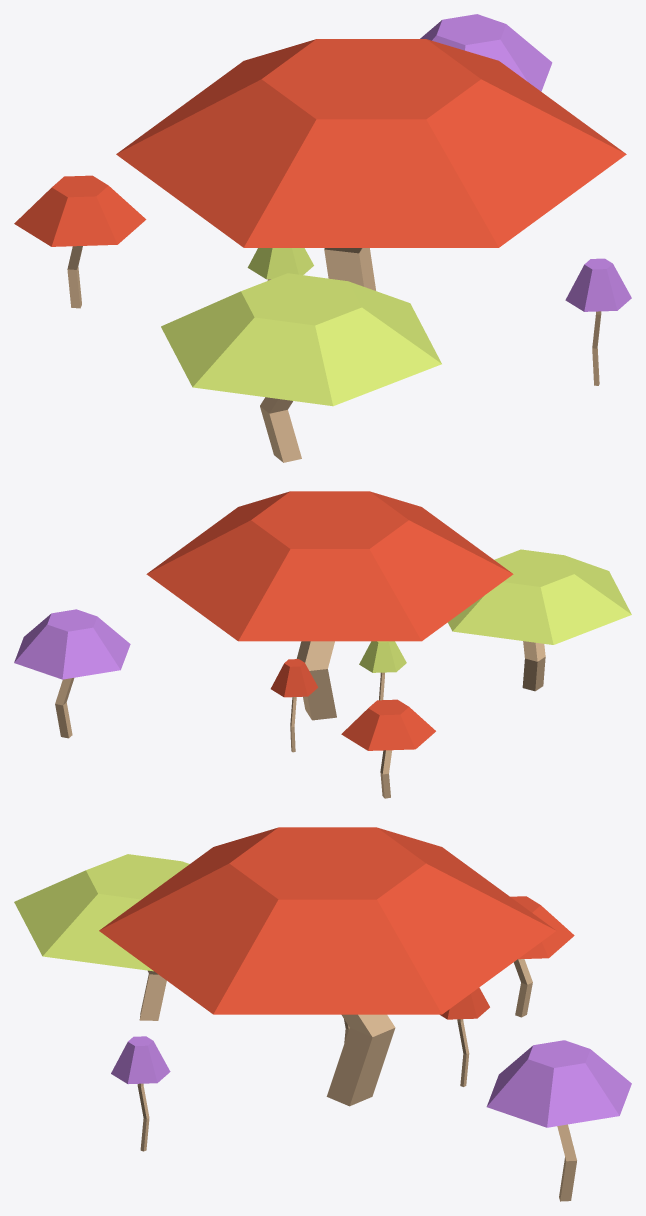
File: Mushrooms.fbx
3 views of the same model, one above another, from view 1: azimuth 30°, elevation 25°; view 2: azimuth 150°, elevation 25°; view 3: azimuth 270°, elevation 25° (orthographic). The views are drawn at different scales.
Parts seen in each view (by area): view 1: Circle; view 2: Circle; view 3: Circle.
Boxes of the visible parts, x1=… form: Circle: x1=14, y1=14, x2=631, y2=462; Circle: x1=14, y1=491, x2=631, y2=798; Circle: x1=14, y1=827, x2=631, y2=1201.
Bounding box in the file's own units: 54 × 54.51 × 22.49.
